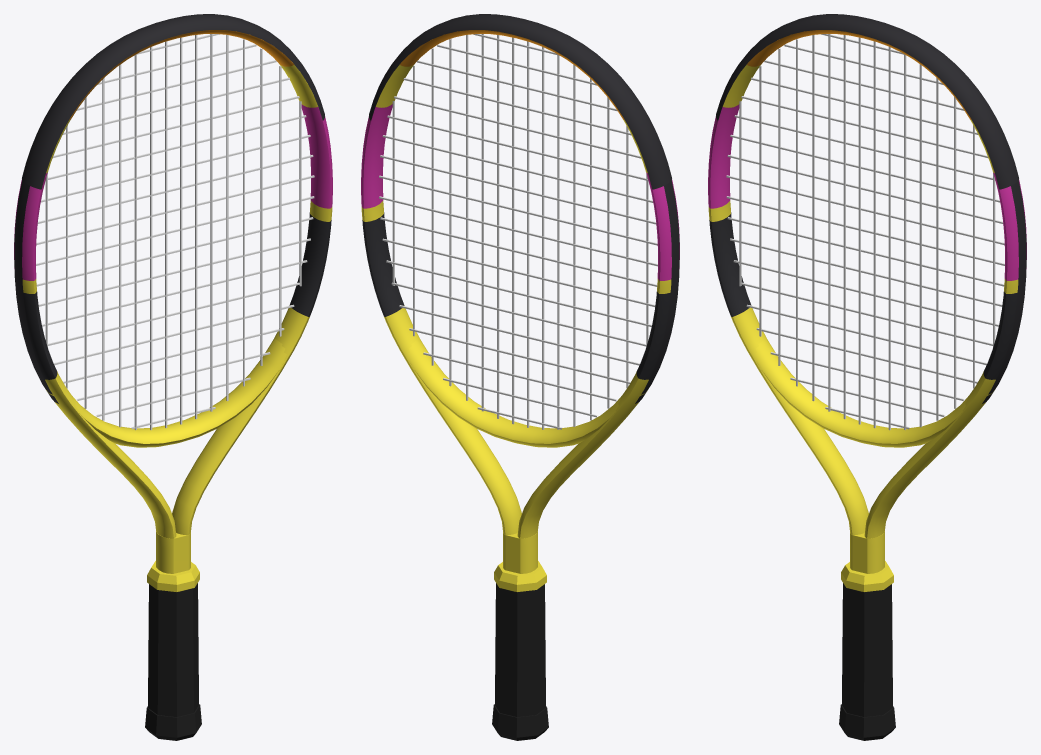
The model's file is babolat-rafa-nadal-junior-23-2021gen.glb.
The picture shows the model from 3 angles, left to right: view 1: azimuth 30°, elevation 25°; view 2: azimuth 150°, elevation 25°; view 3: azimuth 330°, elevation 25°; orthographic projection.
Parts seen in each view (by area): view 1: frame, strings_mains, strings_crosses, bumper, grip, grommets, butt_cap, collar; view 2: frame, strings_mains, strings_crosses, bumper, grip, grommets, butt_cap, collar; view 3: frame, strings_mains, strings_crosses, bumper, grip, grommets, butt_cap, collar.
Boxes of the visible parts, x1=… form: frame: x1=14, y1=30, x2=332, y2=573; strings_mains: x1=45, y1=34, x2=301, y2=430; strings_crosses: x1=36, y1=34, x2=314, y2=429; bumper: x1=22, y1=14, x2=324, y2=189; grip: x1=148, y1=583, x2=198, y2=716; grommets: x1=14, y1=180, x2=58, y2=403; butt_cap: x1=145, y1=704, x2=201, y2=740; collar: x1=147, y1=561, x2=199, y2=591; frame: x1=361, y1=30, x2=679, y2=573; strings_mains: x1=392, y1=34, x2=648, y2=429; strings_crosses: x1=379, y1=34, x2=657, y2=429; bumper: x1=369, y1=14, x2=671, y2=189; grip: x1=495, y1=583, x2=545, y2=716; grommets: x1=635, y1=180, x2=679, y2=403; butt_cap: x1=492, y1=704, x2=548, y2=740; collar: x1=494, y1=561, x2=546, y2=591; frame: x1=708, y1=30, x2=1026, y2=573; strings_mains: x1=739, y1=34, x2=995, y2=430; strings_crosses: x1=726, y1=34, x2=1004, y2=429; bumper: x1=716, y1=14, x2=1018, y2=189; grip: x1=842, y1=583, x2=892, y2=716; grommets: x1=982, y1=180, x2=1026, y2=403; butt_cap: x1=839, y1=704, x2=895, y2=740; collar: x1=841, y1=561, x2=893, y2=591.
Bounding box in the file's own units: 0.2692 × 0.5845 × 0.0396.
